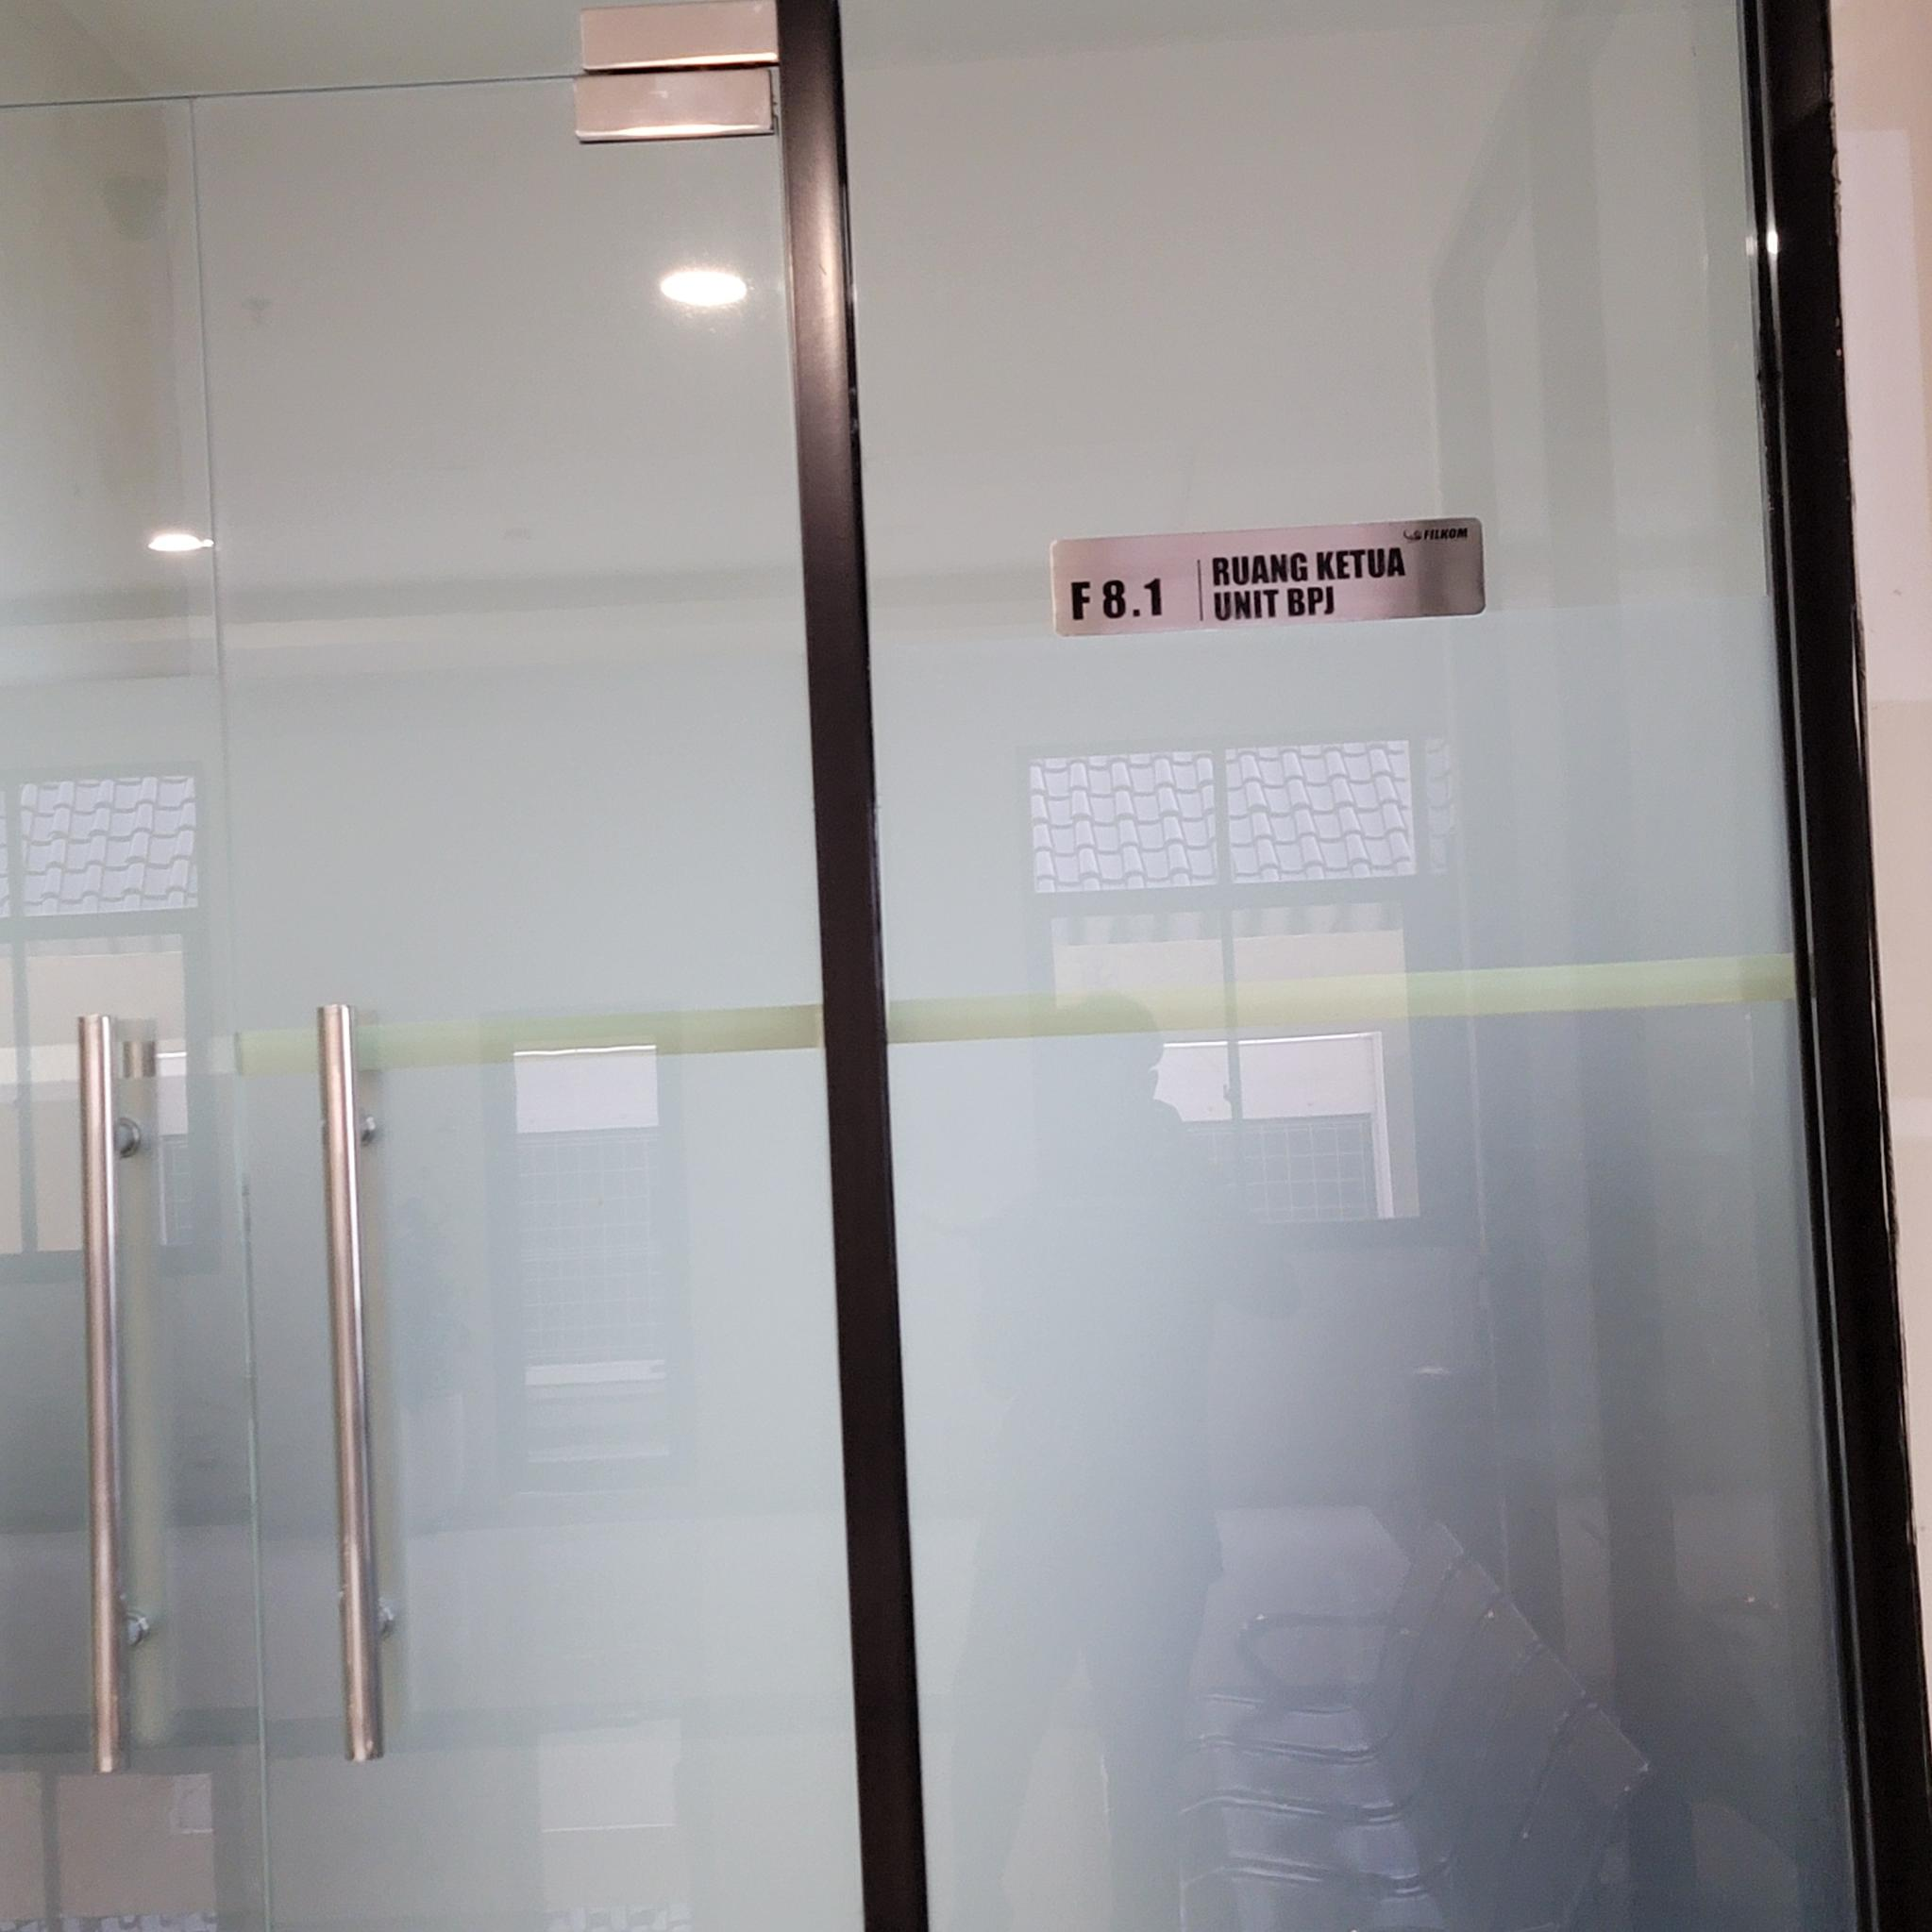plate: (1047, 518, 1486, 642)
